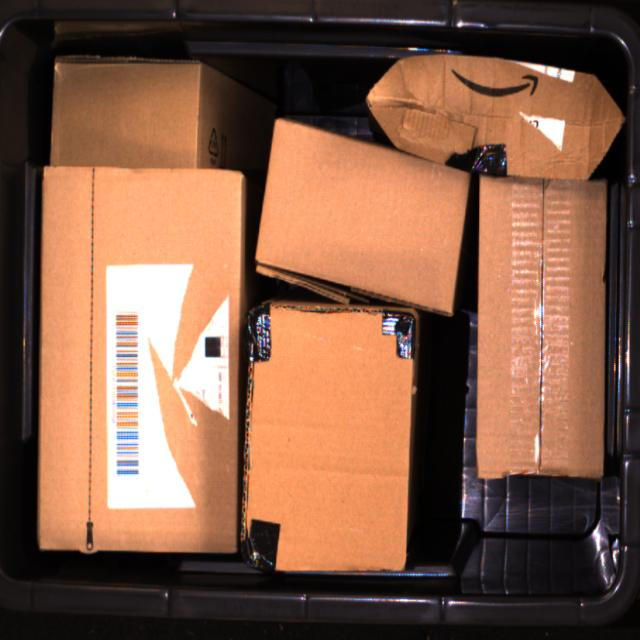Cardboard Box: (36, 161, 247, 557), (242, 294, 425, 575), (253, 112, 473, 316), (475, 170, 608, 480), (365, 48, 625, 179), (48, 51, 274, 169)
